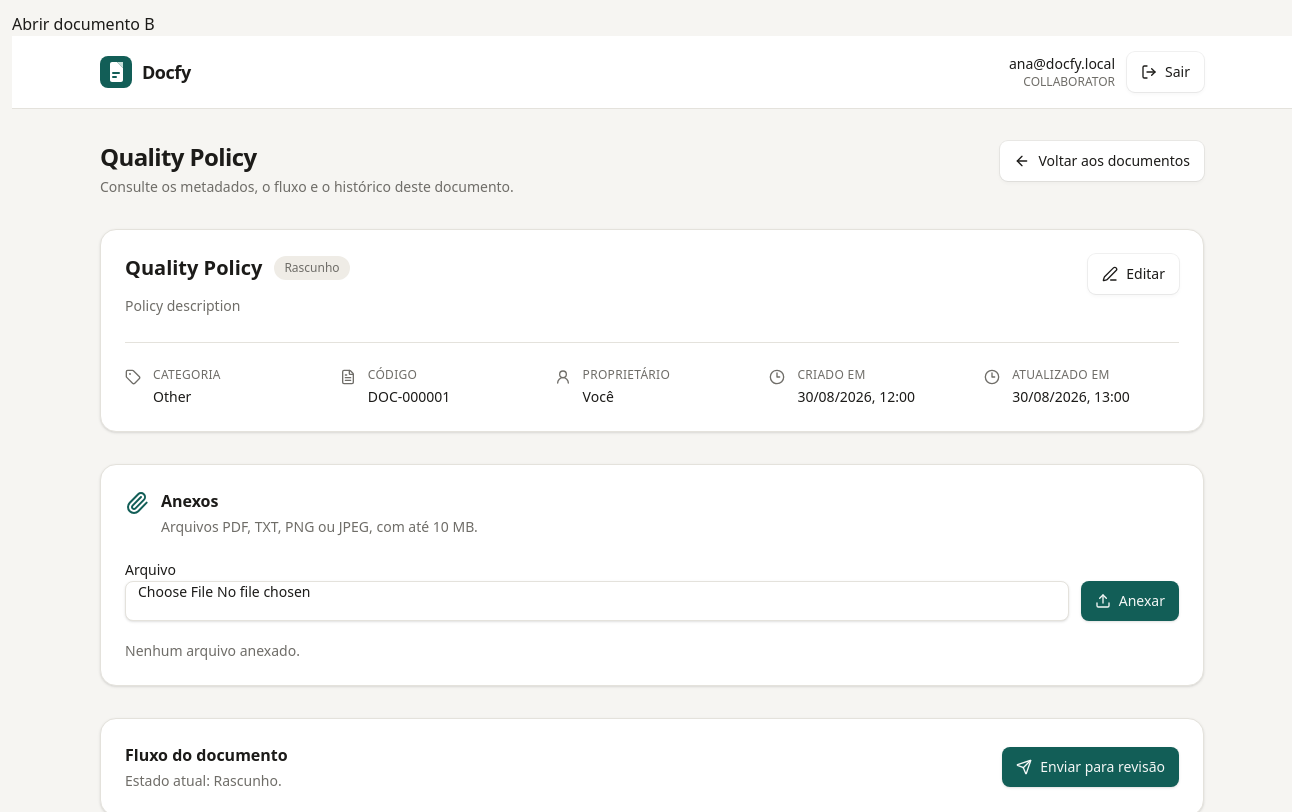
DocumentDetailPage workflow › shows the safe 403 workflow error with correlation ID
Click the button "Enviar para revisão": (1091, 767) [1002,747,1179,787]
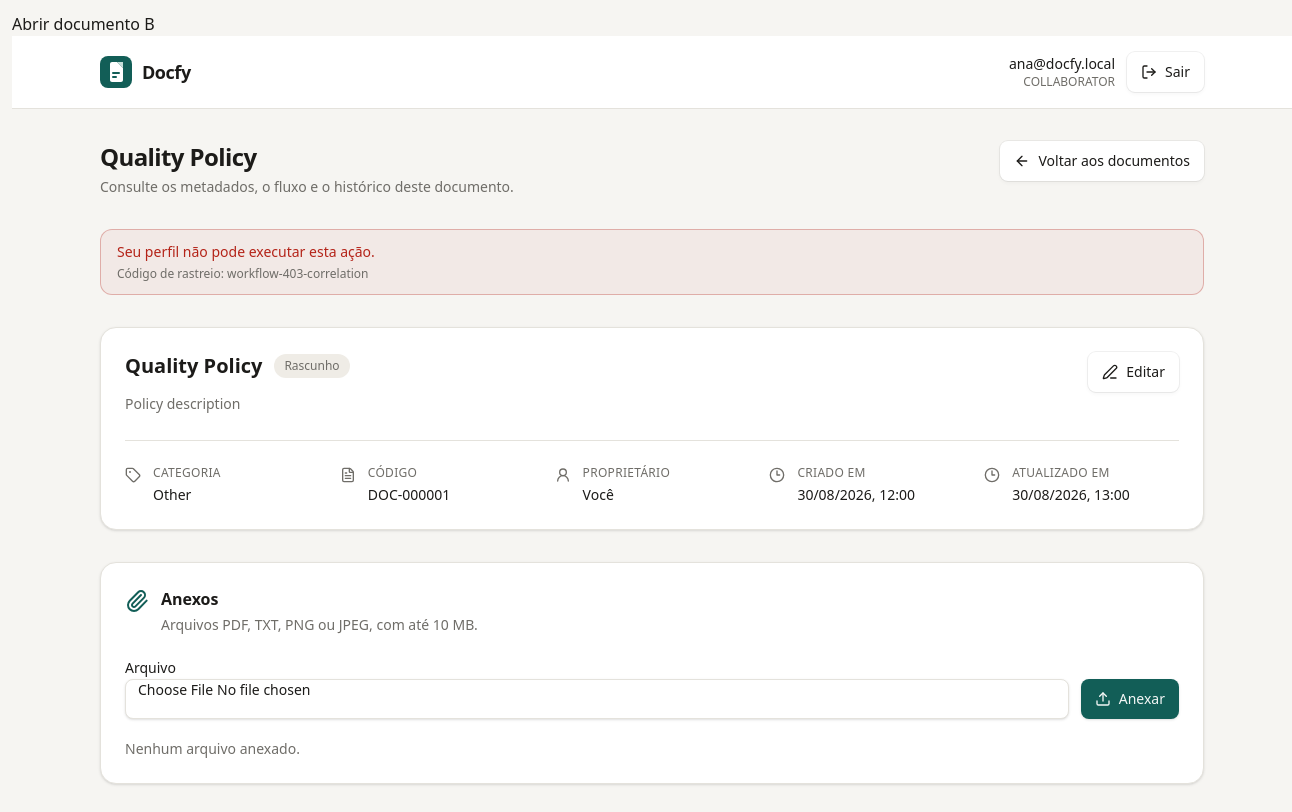
expect the text "Seu perfil não pode executar esta ação." is shown: met, box [117,242,375,261]
